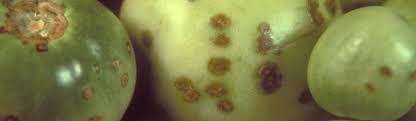tomato bacterial spot: (121, 1, 340, 121), (1, 1, 141, 121), (316, 9, 416, 121)
